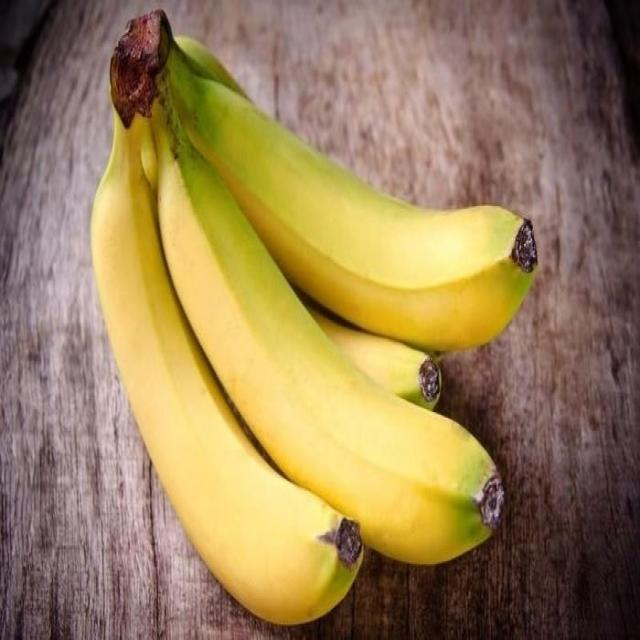chuoi: (91, 10, 536, 624)
